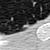node: (36, 23, 50, 42), (10, 15, 14, 22)
